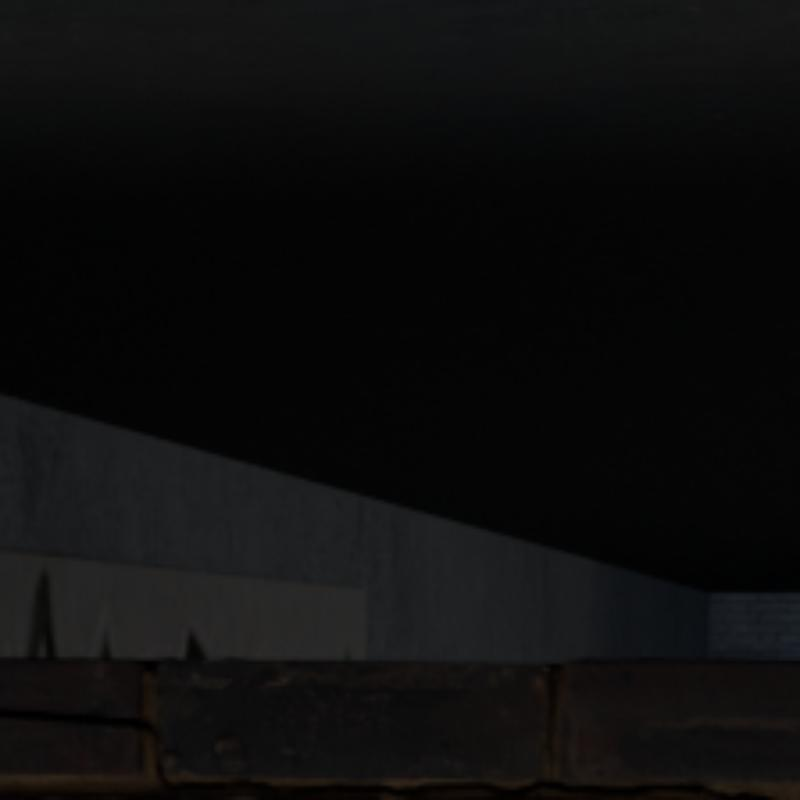pothole: (0, 707, 771, 796)
